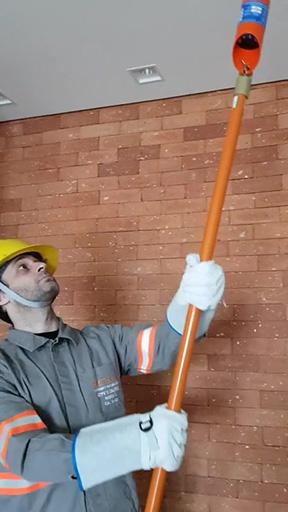Detector_Tensao_Contato: (230, 1, 274, 77)
Vara_Manobra: (145, 77, 253, 512)
